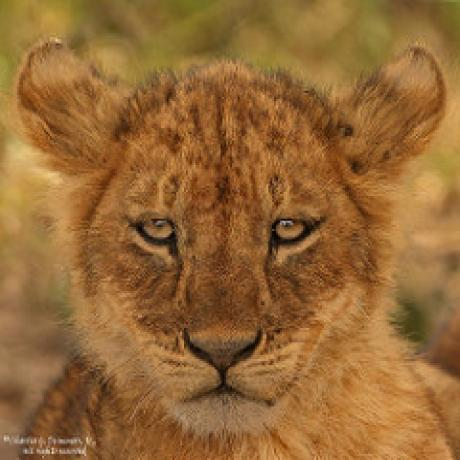Lion: (9, 36, 460, 460)
